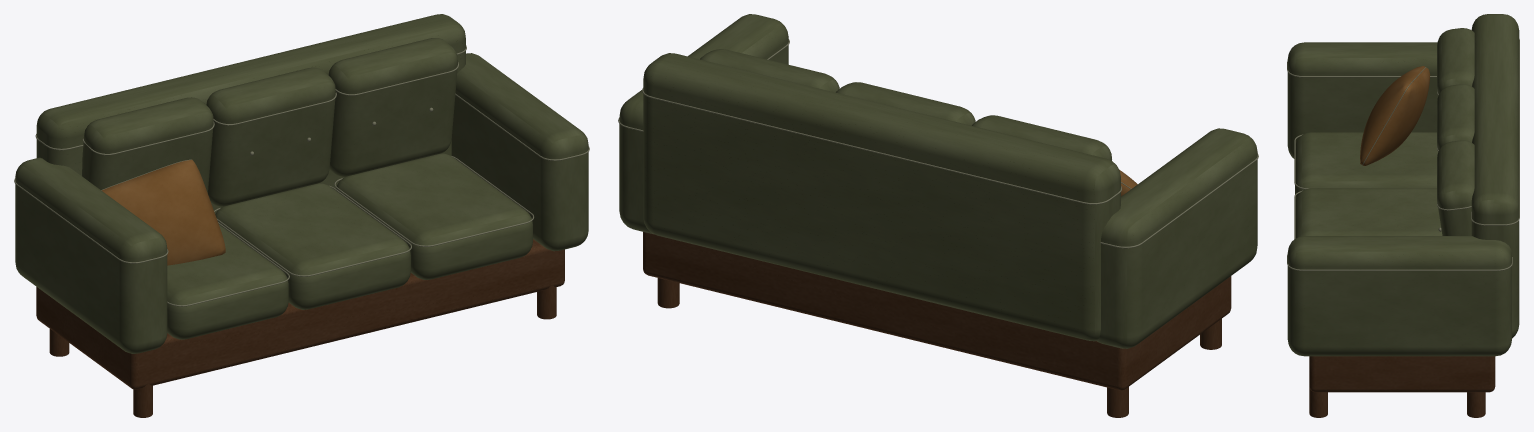
Rendered from couch.glb.
3 renders of one model, left to right at view 1: azimuth 30°, elevation 25°; view 2: azimuth 150°, elevation 25°; view 3: azimuth 270°, elevation 25°, orthographic. The views are drawn at different scales.
Parts seen in each view (by area): view 1: Walnut lower sofa frame, Upholstered arm, Upholstered arm.001, Seat cushion.001, Seat cushion.002, Back cushion.002, Back cushion.001, Upholstered rear frame, Seat cushion, Back cushion, Loose faded ochre pillow, Seat cushion / stitched piping.002 (+3 smaller); view 2: Upholstered rear frame, Walnut lower sofa frame, Upholstered arm, Upholstered arm.001, Back cushion, Back cushion.001, Back cushion.002, Upholstered rear frame / stitched piping, Tapered timber foot.003, Tapered timber foot.001; view 3: Upholstered arm.001, Upholstered rear frame, Upholstered arm, Seat cushion, Walnut lower sofa frame, Seat cushion.001, Loose faded ochre pillow, Back cushion.002, Back cushion, Back cushion.001, Tapered timber foot.002, Tapered timber foot.003 (+3 smaller).
Boxes of the visible parts, x1,y1,x2,y2 form: Walnut lower sofa frame: [36, 239, 564, 389]; Upholstered arm: [15, 157, 167, 353]; Upholstered arm.001: [451, 53, 588, 251]; Seat cushion.001: [215, 183, 410, 309]; Seat cushion.002: [336, 153, 532, 279]; Back cushion.002: [328, 38, 457, 176]; Back cushion.001: [206, 67, 335, 206]; Upholstered rear frame: [36, 14, 465, 213]; Seat cushion: [167, 224, 288, 339]; Back cushion: [82, 97, 213, 193]; Loose faded ochre pillow: [101, 159, 225, 265]; Seat cushion / stitched piping.002: [334, 156, 534, 246]; Upholstered rear frame: [643, 53, 1120, 341]; Walnut lower sofa frame: [643, 232, 1231, 390]; Upholstered arm: [1097, 128, 1257, 348]; Upholstered arm.001: [619, 14, 788, 234]; Back cushion: [972, 115, 1111, 160]; Back cushion.001: [836, 82, 975, 125]; Back cushion.002: [700, 49, 839, 92]; Upholstered rear frame / stitched piping: [642, 88, 1121, 204]; Tapered timber foot.003: [657, 278, 679, 308]; Tapered timber foot.001: [1107, 387, 1128, 417]; Upholstered arm.001: [1287, 236, 1511, 356]; Upholstered rear frame: [1471, 14, 1519, 338]; Upholstered arm: [1287, 42, 1438, 158]; Seat cushion: [1295, 132, 1438, 199]; Walnut lower sofa frame: [1309, 356, 1495, 392]; Seat cushion.001: [1295, 188, 1442, 238]; Loose faded ochre pillow: [1360, 66, 1430, 165]; Back cushion.002: [1437, 140, 1474, 235]; Back cushion: [1437, 28, 1474, 95]; Back cushion.001: [1437, 84, 1474, 151]; Tapered timber foot.002: [1309, 387, 1327, 417]; Tapered timber foot.003: [1467, 392, 1485, 417].
Bounding box in the file's own units: 2.14 × 1.01 × 0.9756.
4 materials, 3 textured.
